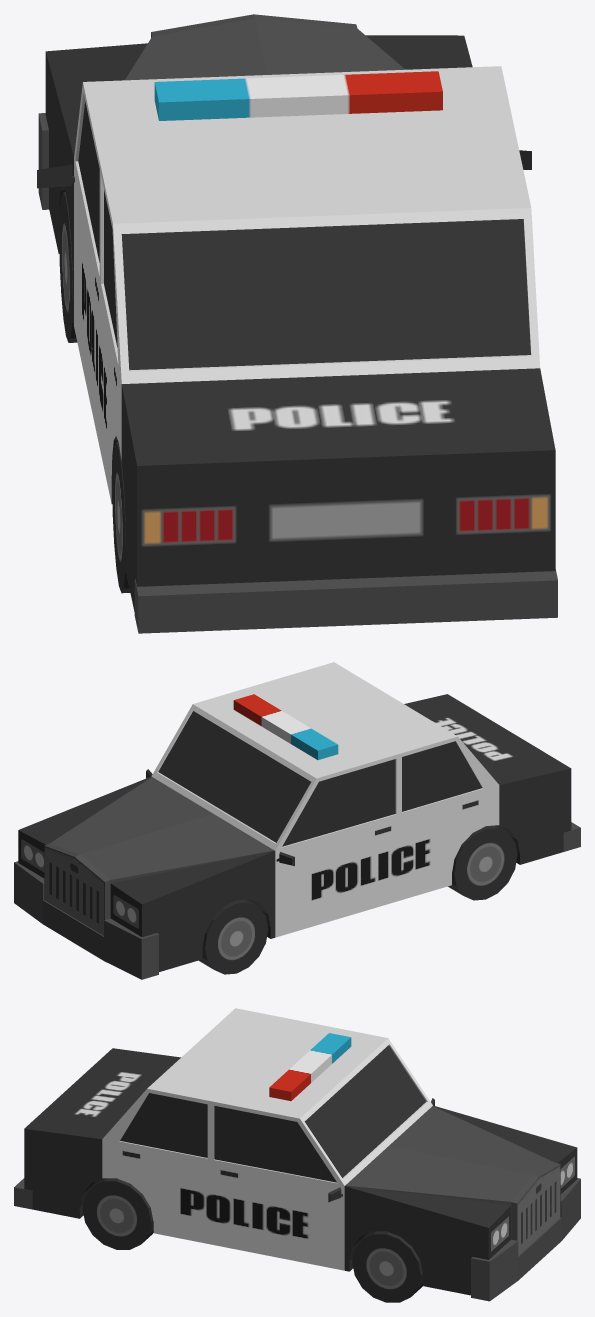
The model's file is Car6_police1.glb.
3 renders of one model, top to bottom at view 1: azimuth 30°, elevation 25°; view 2: azimuth 150°, elevation 25°; view 3: azimuth 270°, elevation 25°, orthographic. The views are drawn at different scales.
Visible parts, largest first — view 1: Vehicle_Police Car.000; view 2: Vehicle_Police Car.000; view 3: Vehicle_Police Car.000.
Part boxes in pixels (bbox=[...]): Vehicle_Police Car.000: bbox=[37, 14, 557, 633]; Vehicle_Police Car.000: bbox=[14, 662, 580, 979]; Vehicle_Police Car.000: bbox=[14, 1008, 580, 1302].
Size of the model in its own units: 1.24 by 0.5795 by 1.69.
Materials: 1 (1 with a texture image).
